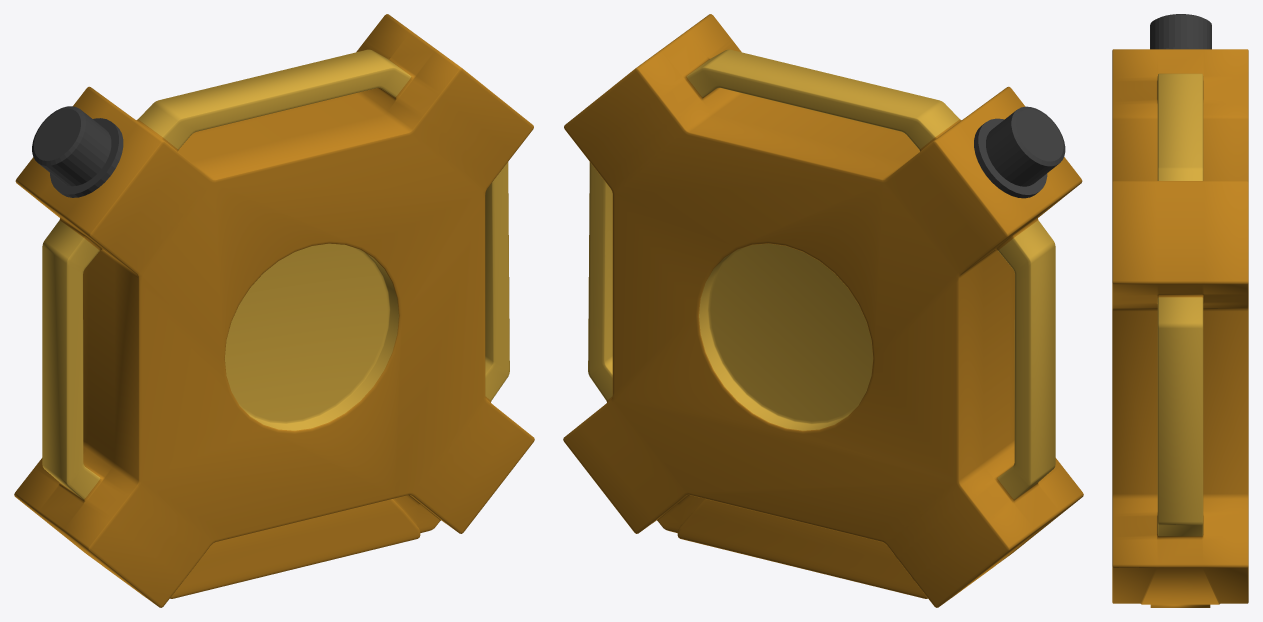
The model's file is fuel-pickup.fbx.
The picture shows the model from 3 angles, left to right: view 1: azimuth 30°, elevation 25°; view 2: azimuth 150°, elevation 25°; view 3: azimuth 270°, elevation 25°; orthographic projection. The views are drawn at different scales.
Visible parts, largest first — view 1: Cube; view 2: Cube; view 3: Cube.
Part boxes in pixels (box(x1,y1,x2,y2)): Cube: box(14, 14, 534, 607); Cube: box(563, 14, 1083, 607); Cube: box(1112, 14, 1248, 607).
Size of the model in its own units: 170 by 174 by 48.14.
